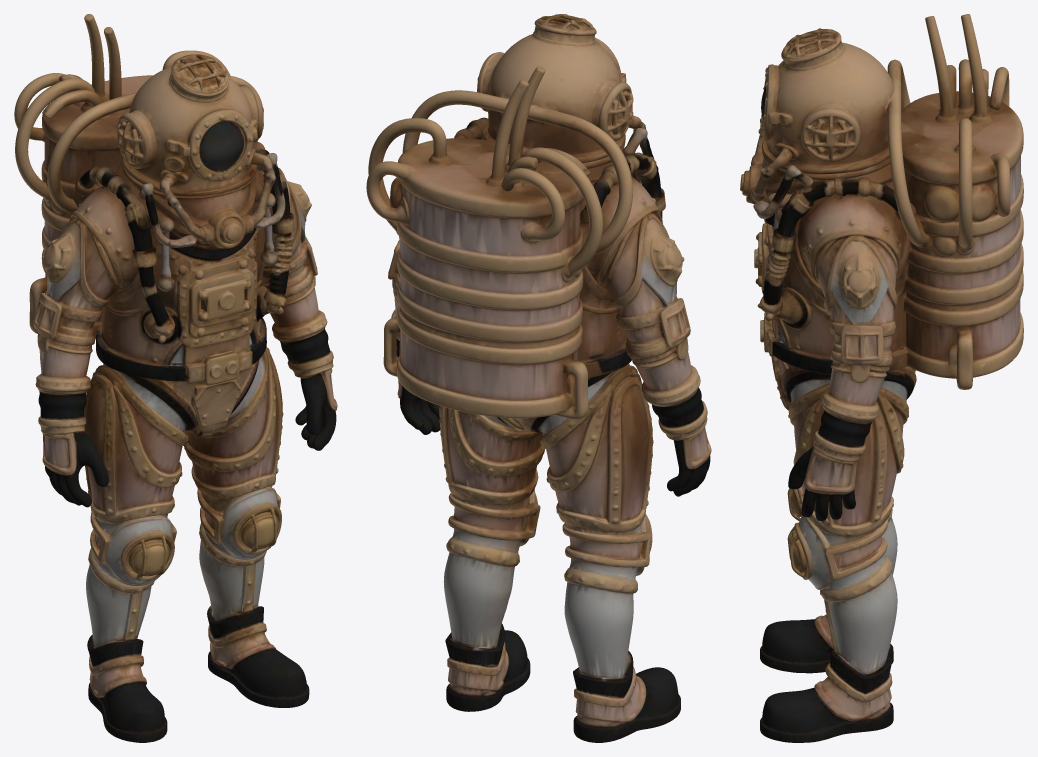
Rendered from agent-21.glb.
3 renders of one model, left to right at view 1: azimuth 30°, elevation 25°; view 2: azimuth 150°, elevation 25°; view 3: azimuth 270°, elevation 25°, orthographic. The views are drawn at different scales.
Parts seen in each view (by area): view 1: material; view 2: material; view 3: material.
Part boxes in pixels (x1=…): material: x1=14, y1=14, x2=337, y2=742; material: x1=366, y1=14, x2=711, y2=742; material: x1=740, y1=14, x2=1023, y2=742.
Size of the model in its own units: 0.5191 by 1.11 by 0.431.
Materials: 1 (1 with a texture image).
